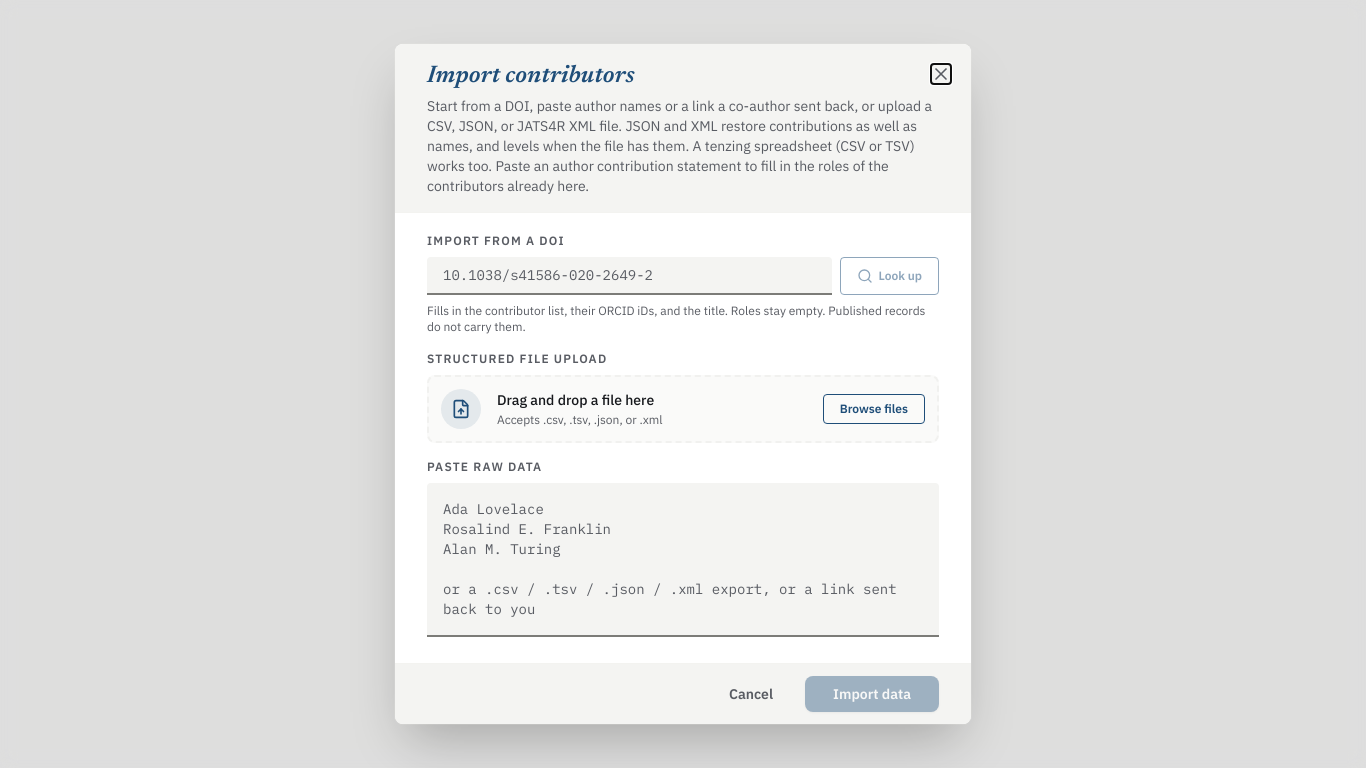
Test: DOI lookup › says offline when the connection dropped during the request
This screenshot has width=1366, height=768.
Type "10.1234/abcd" into the field labelled "Import from a DOI". click: {"x": 629, "y": 276}
box: x1=427 y1=257 x2=832 y2=295
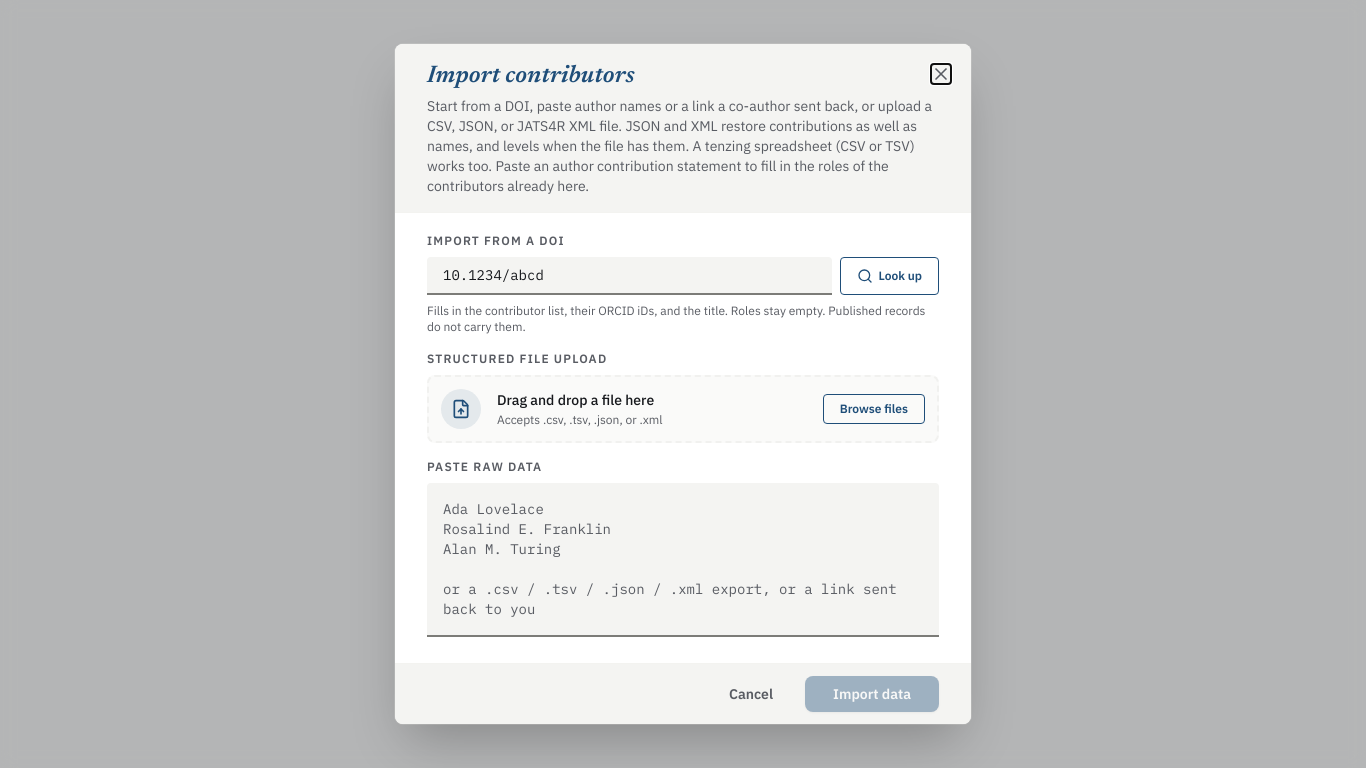
Click the button "Look up". click: {"x": 889, "y": 276}
box: x1=840 y1=257 x2=939 y2=295
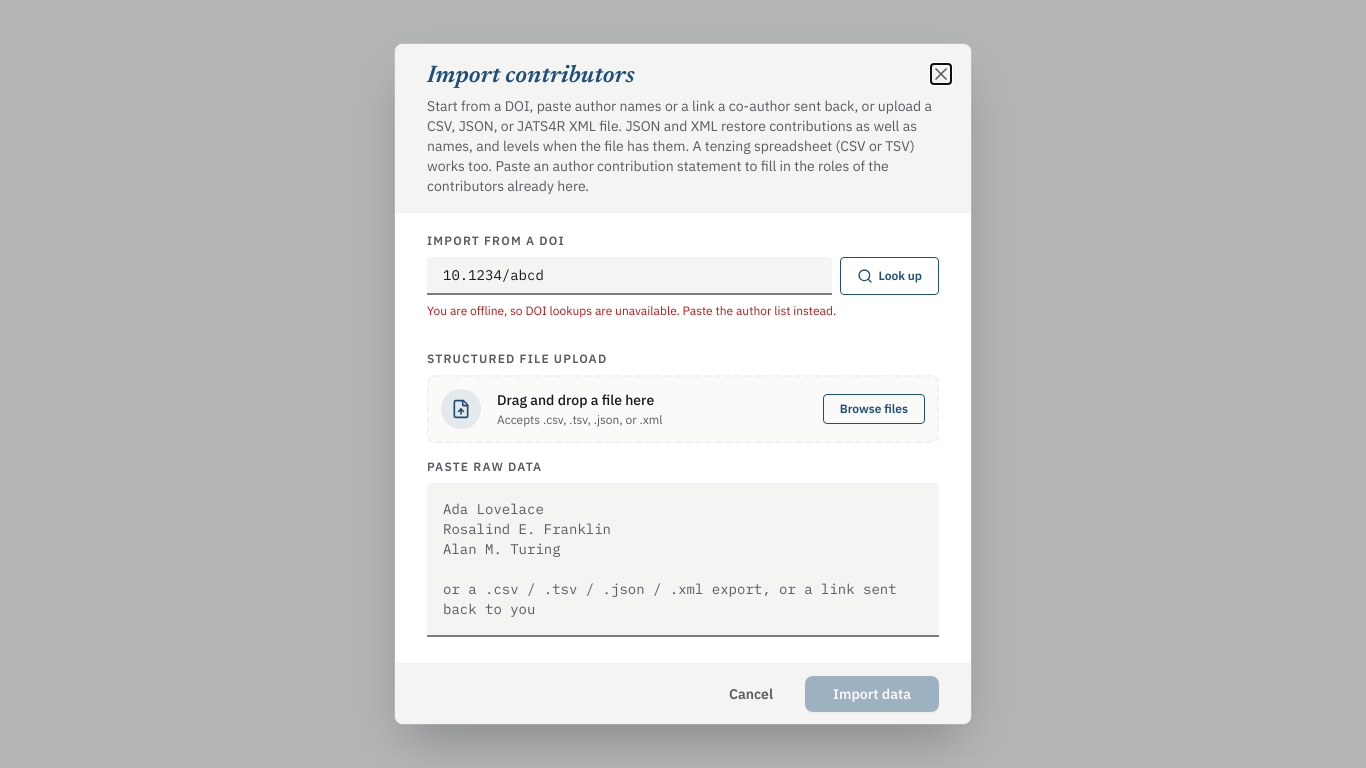
Expected: the text "You are offline, so DOI lookups are unavailable. Paste the author list instead." is shown, x1=427 y1=303 x2=836 y2=318
